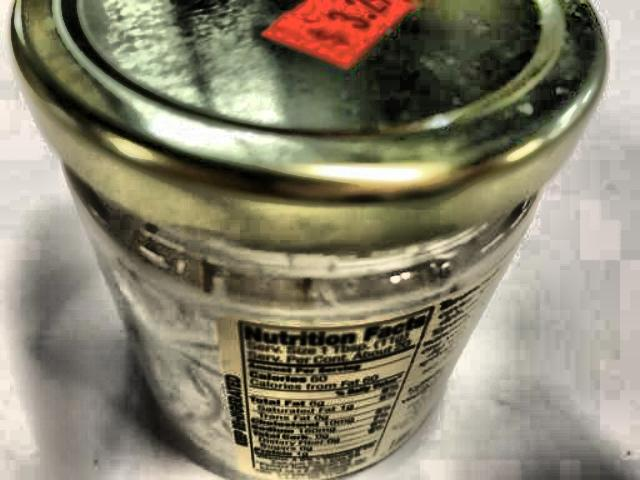Almennt: (0, 0, 611, 480)
